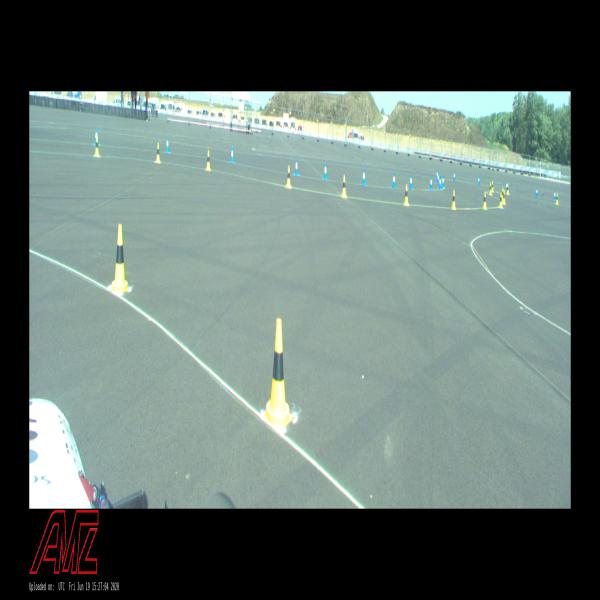blue_cone: (294, 158, 298, 176), (94, 128, 98, 146), (362, 168, 366, 185), (230, 146, 234, 163), (165, 137, 169, 153), (429, 176, 433, 191), (324, 162, 327, 179), (392, 172, 395, 188), (552, 189, 556, 200), (441, 175, 444, 188), (437, 172, 440, 183), (410, 174, 412, 189), (439, 175, 441, 189), (535, 187, 538, 196), (477, 176, 480, 184), (436, 170, 438, 180), (453, 171, 455, 180), (506, 182, 508, 190)
yellow_cone: (265, 320, 292, 422), (110, 226, 129, 294), (341, 175, 347, 197), (154, 142, 160, 163), (404, 184, 409, 206), (206, 150, 211, 171), (286, 166, 291, 186), (451, 190, 456, 210), (95, 135, 99, 157), (498, 192, 503, 208), (482, 192, 487, 208), (502, 190, 506, 205), (501, 186, 504, 201), (555, 193, 559, 204), (506, 184, 510, 194), (489, 182, 492, 195), (491, 180, 493, 192)
